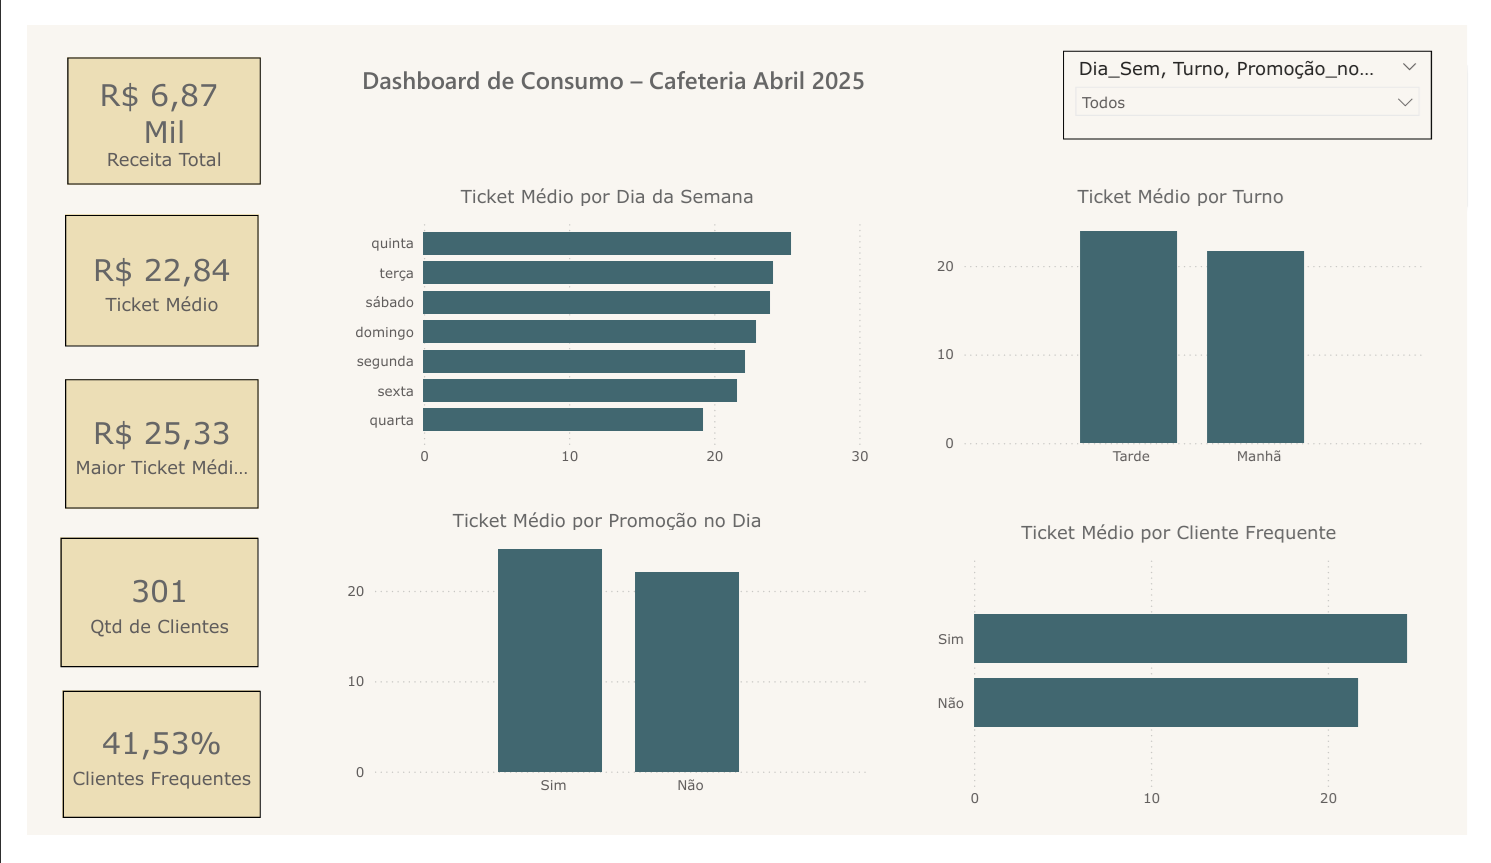

This screenshot's page, from the dashboard's own definition file:
{"tool":"powerbi","page":{"name":"Dashboard","canvas":[1280,720],"ordinal":0},"visuals":[{"type":"card","fields":{"Values":["base_cafeteria_2025.Receita Total"]},"box":[35.5,28.1,171.2,112.5],"z":0},{"type":"card","fields":{"Values":["base_cafeteria_2025.Ticket Médio"]},"box":[33,167.5,172.4,117.4],"z":1},{"type":"card","fields":{"Values":["base_cafeteria_2025.Qtd Clientes"]},"box":[29.3,454.9,176.1,114.9],"z":2},{"type":"columnChart","fields":{"Category":["base_cafeteria_2025.Turno"],"Y":["base_cafeteria_2025.Ticket Médio"]},"box":[802.2,140.6,445.1,259.2],"z":3},{"type":"barChart","title":"Ticket Médio por Dia da Semana","fields":{"Category":["base_cafeteria_2025.Dia_Sem"],"Y":["base_cafeteria_2025.Ticket Médio"]},"box":[277.6,140.6,474.5,259.2],"z":4},{"type":"columnChart","title":"Ticket Médio por Promoção no Dia","fields":{"Category":["base_cafeteria_2025.Promoção_no_dia"],"Y":["base_cafeteria_2025.Ticket Médio"]},"box":[277.6,429.2,474.5,262.9],"z":5},{"type":"barChart","title":"Ticket Médio por Cliente Frequente","fields":{"Category":["base_cafeteria_2025.Cliente_frequente"],"Y":["base_cafeteria_2025.Ticket Médio"]},"box":[798.5,440.2,448.8,264.1],"z":6},{"type":"slicer","fields":{"Values":["base_cafeteria_2025.Dia_Sem","base_cafeteria_2025.Turno","base_cafeteria_2025.Promoção_no_dia","base_cafeteria_2025.Faixa_etária"]},"box":[920.1,21.7,327.6,79.5],"z":7},{"type":"textbox","box":[292.3,28.1,459.8,46.5],"z":8},{"type":"card","fields":{"Values":["base_cafeteria_2025.% Clientes Frequentes"]},"box":[30.6,590.6,176.1,113.7],"z":9},{"type":"card","fields":{"Values":["base_cafeteria_2025.Maior Ticket Médio Dia"]},"box":[33,314.3,172.4,114.9],"z":10}]}

Visuals, with their boxes in screenshot pixels (x1, y1, x2, y2), scaled from the page's 1280x720 canvas onto the 1491x863 screenshot:
card - base_cafeteria_2025.Receita Total: {"x1": 41, "y1": 34, "x2": 241, "y2": 169}
card - base_cafeteria_2025.Ticket Médio: {"x1": 38, "y1": 201, "x2": 239, "y2": 341}
card - base_cafeteria_2025.Qtd Clientes: {"x1": 34, "y1": 545, "x2": 239, "y2": 683}
columnChart - base_cafeteria_2025.Turno x base_cafeteria_2025.Ticket Médio: {"x1": 934, "y1": 169, "x2": 1453, "y2": 479}
"Ticket Médio por Dia da Semana" barChart: {"x1": 323, "y1": 169, "x2": 876, "y2": 479}
"Ticket Médio por Promoção no Dia" columnChart: {"x1": 323, "y1": 514, "x2": 876, "y2": 830}
"Ticket Médio por Cliente Frequente" barChart: {"x1": 930, "y1": 528, "x2": 1453, "y2": 844}
slicer - base_cafeteria_2025.Dia_Sem x base_cafeteria_2025.Turno: {"x1": 1072, "y1": 26, "x2": 1453, "y2": 121}
textbox: {"x1": 340, "y1": 34, "x2": 876, "y2": 89}
card - base_cafeteria_2025.% Clientes Frequentes: {"x1": 36, "y1": 708, "x2": 241, "y2": 844}
card - base_cafeteria_2025.Maior Ticket Médio Dia: {"x1": 38, "y1": 377, "x2": 239, "y2": 514}
